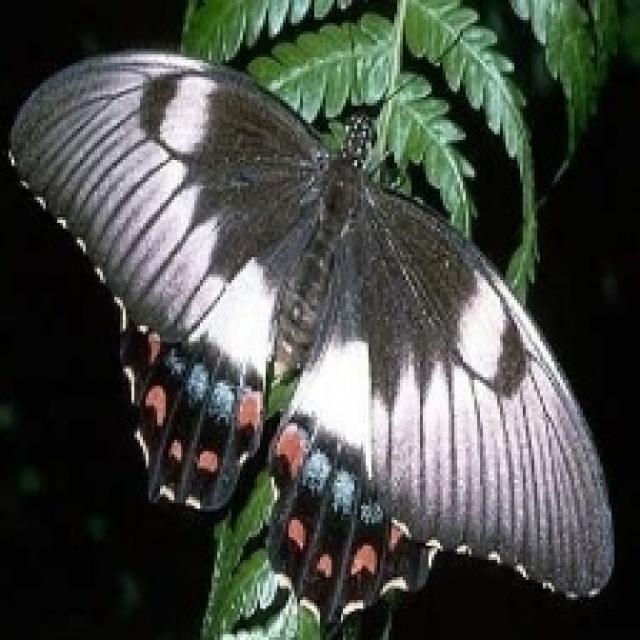butterfly: (6, 46, 614, 637)
